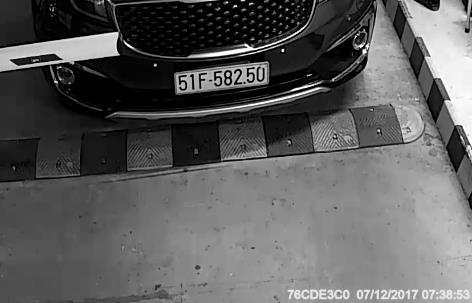License-plate: (159, 55, 288, 107)
